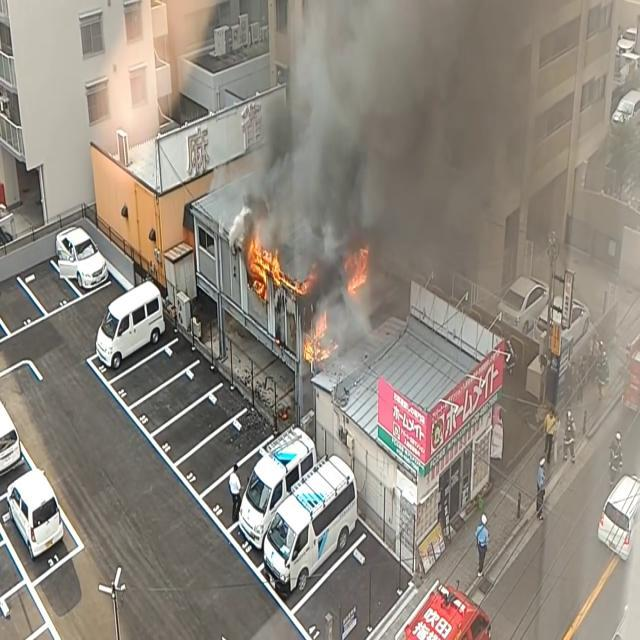Fire: (242, 234, 312, 302), (243, 233, 283, 299), (302, 303, 334, 366), (343, 236, 373, 302)
Smoke: (233, 0, 562, 300)
